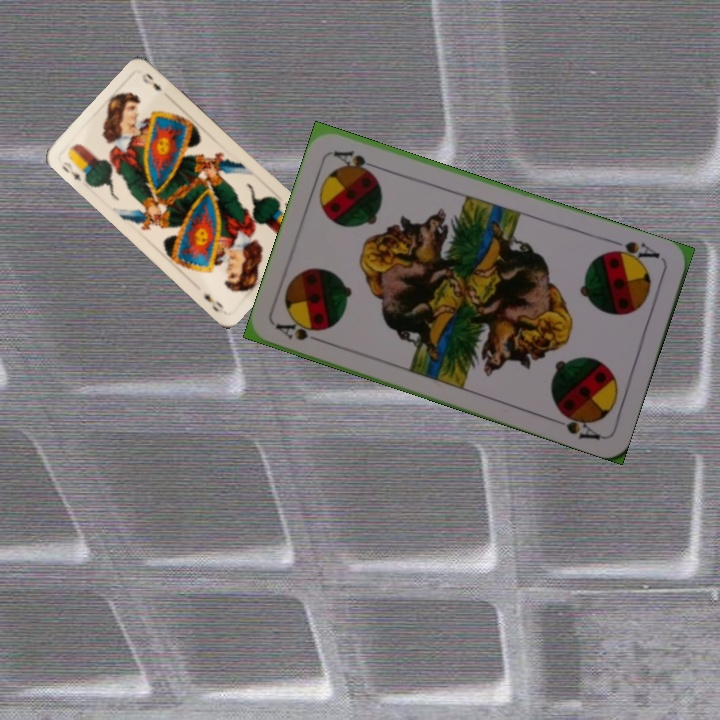EO: (58, 158, 90, 185)
SA: (604, 235, 663, 267), (272, 316, 330, 347)
